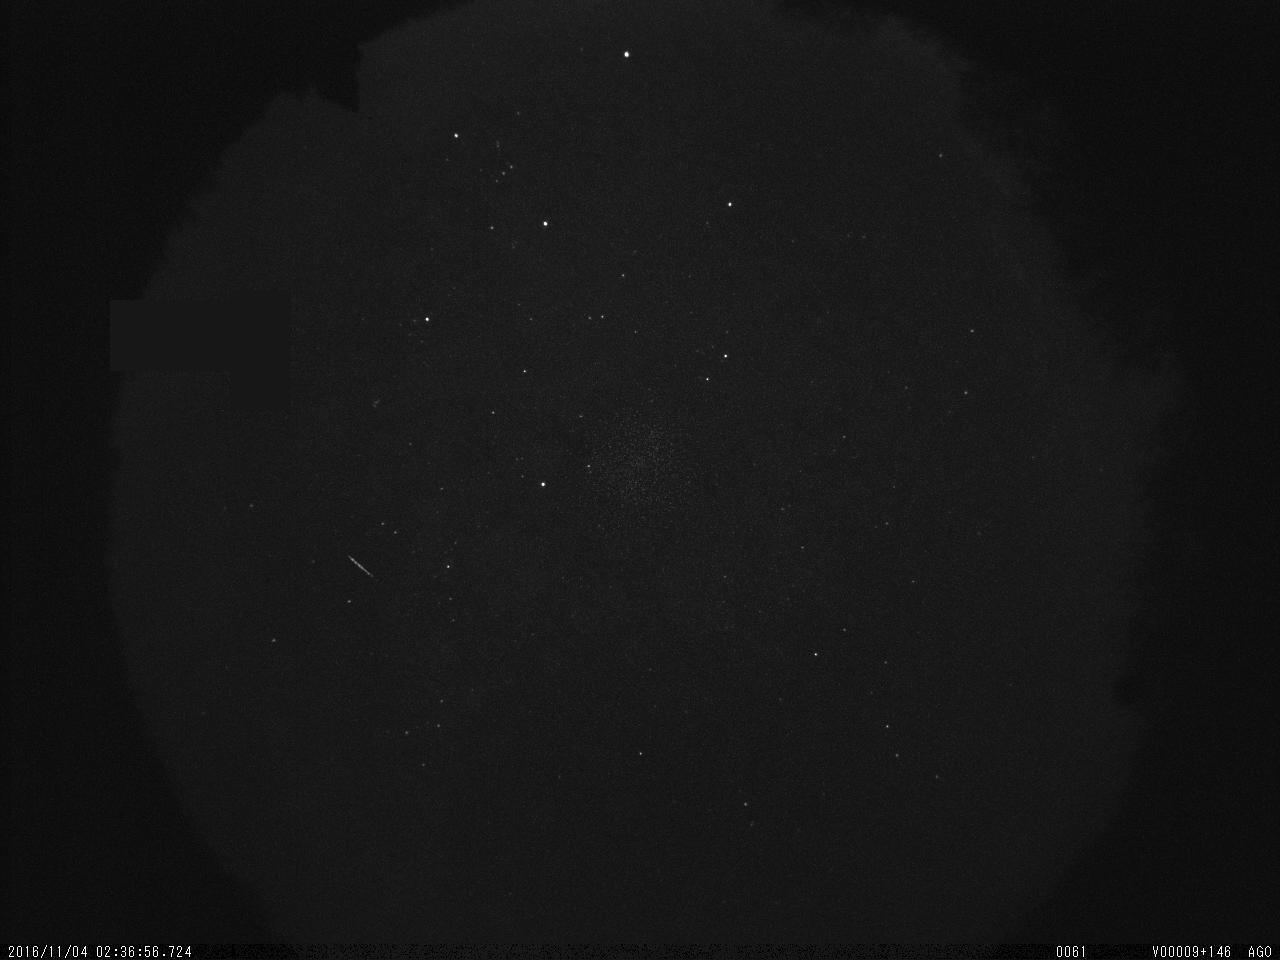meteor: (341, 543, 383, 590)
